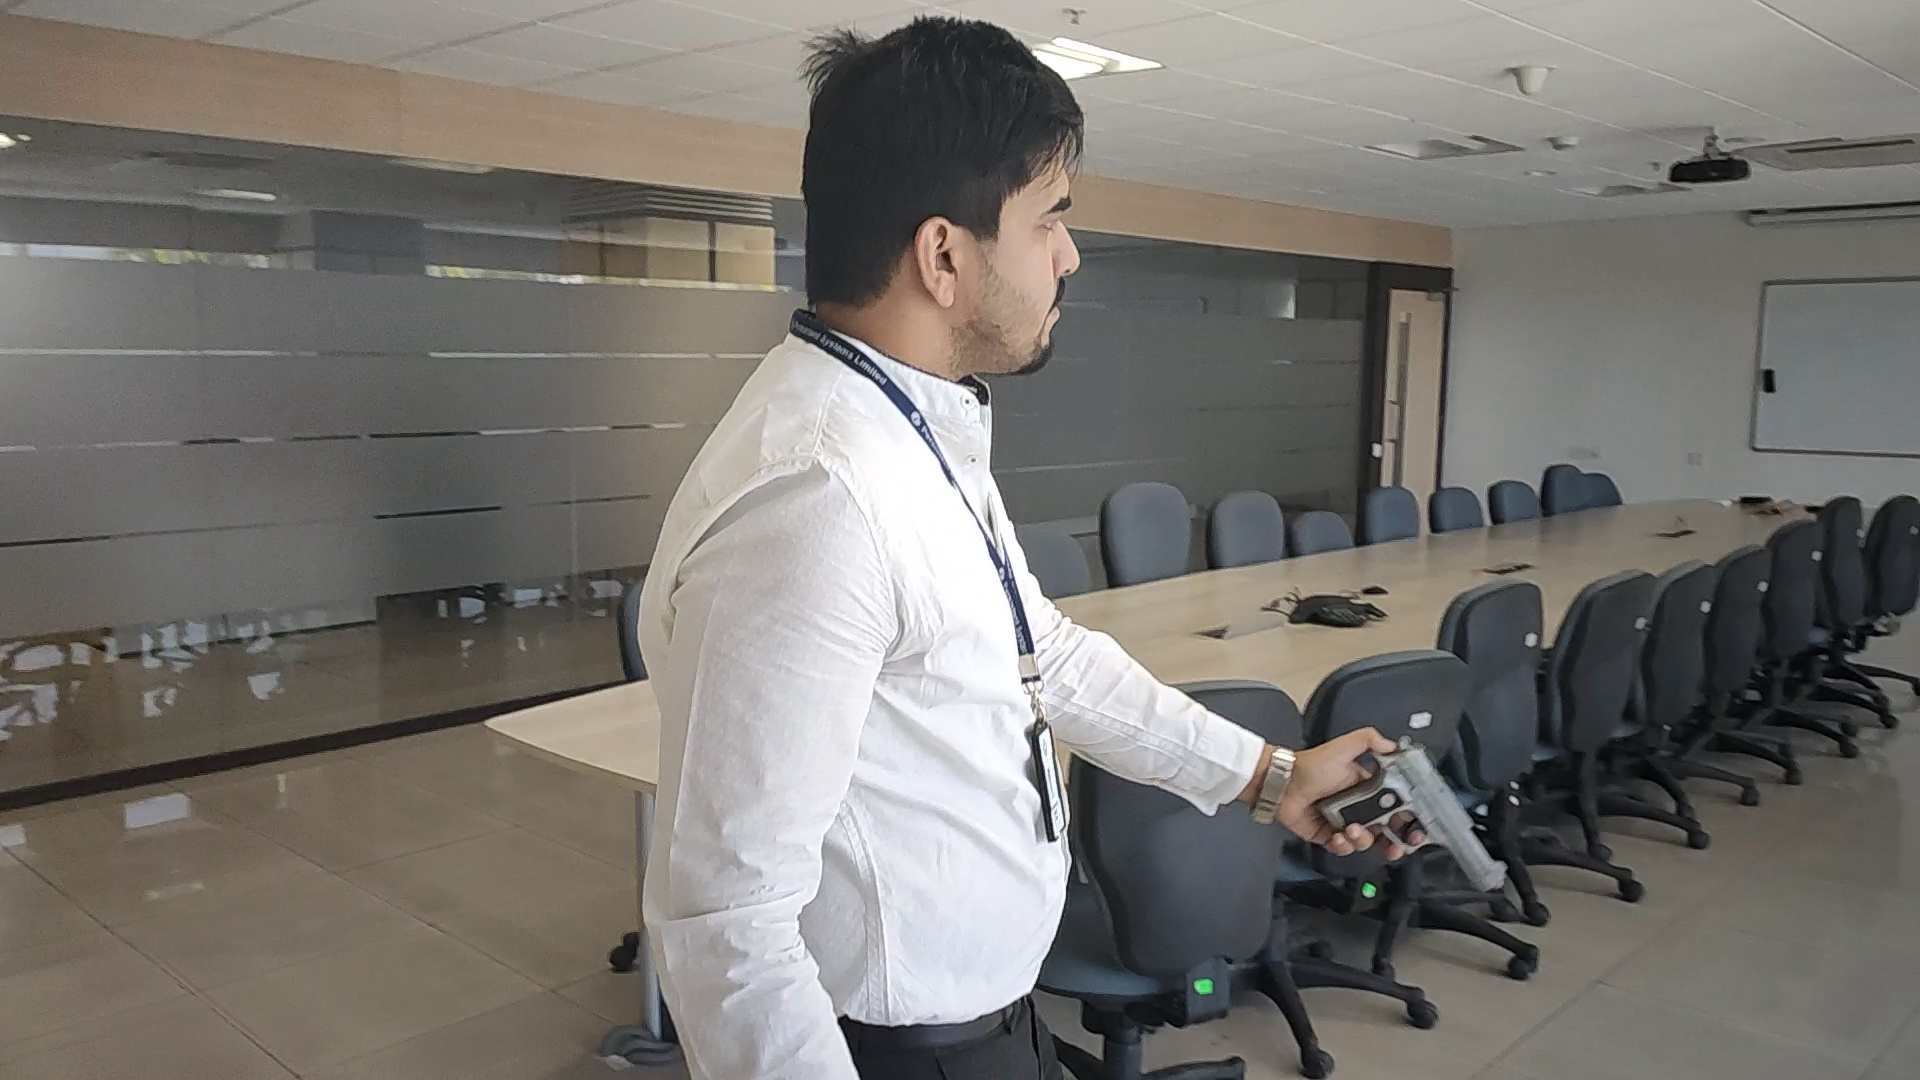gun: (1323, 738, 1505, 887)
